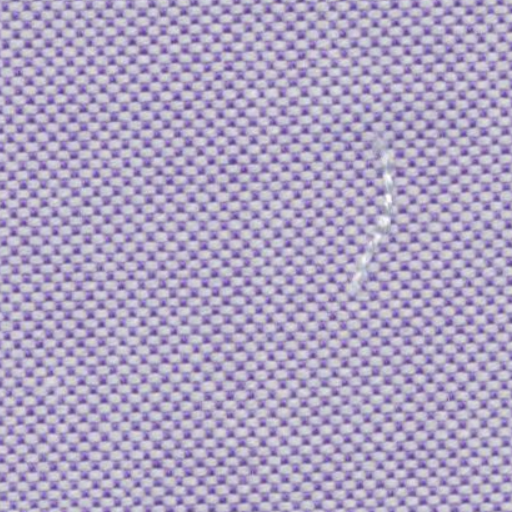DuanSha: (344, 142, 418, 294)
